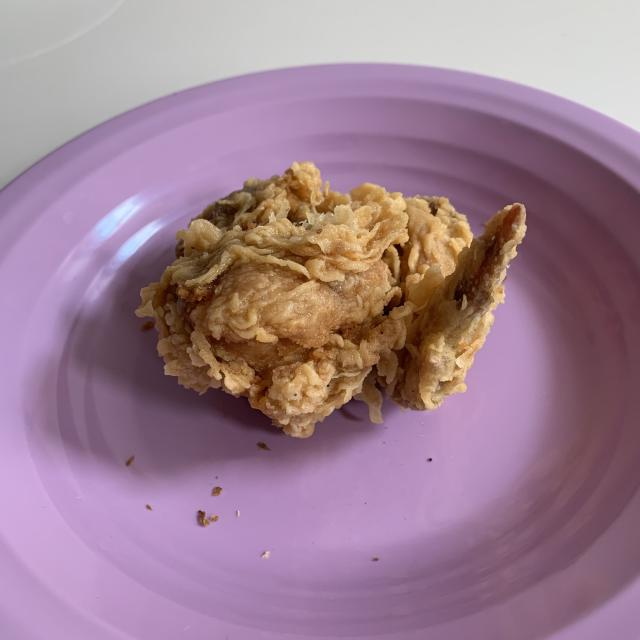Frango: (140, 161, 528, 438)
